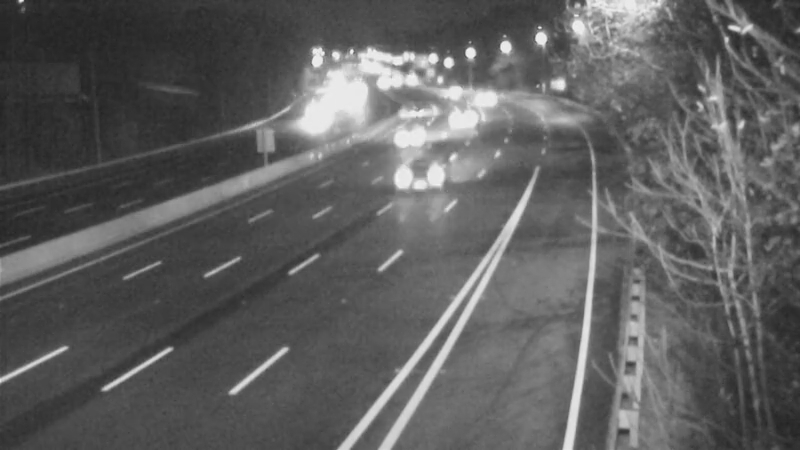vehicle: (381, 138, 461, 218), (465, 74, 515, 124), (383, 83, 433, 133), (426, 100, 476, 150), (382, 110, 432, 160), (288, 96, 338, 146)
